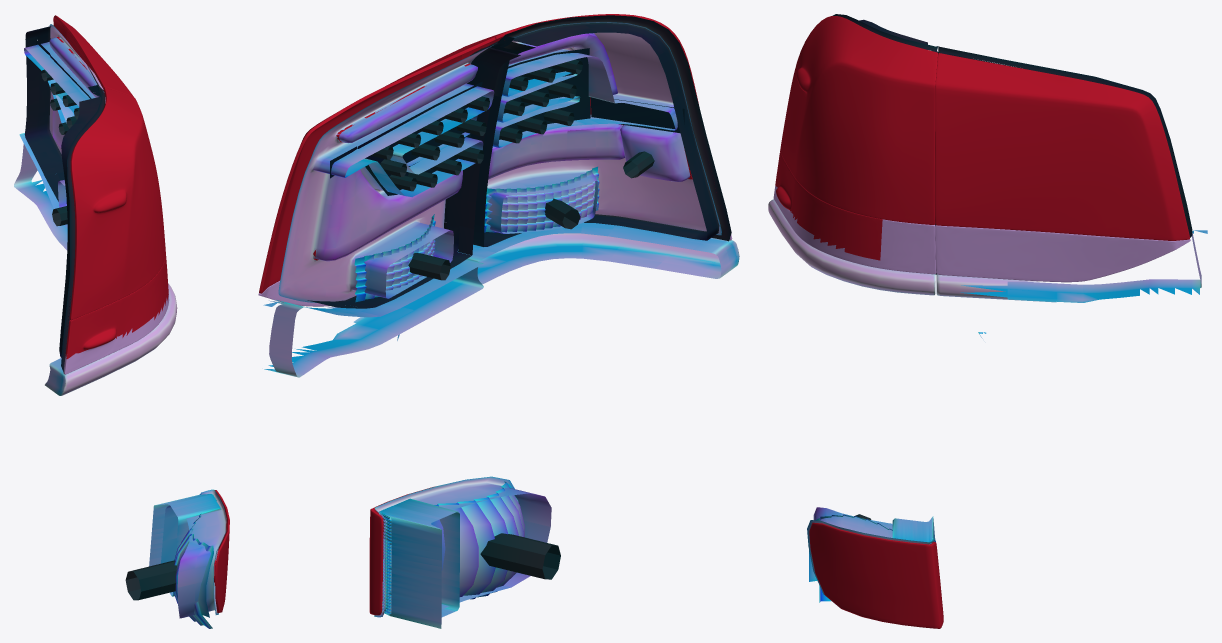
Rendered from lamp_rear_L_finish3.glb.
3 views of the same model, side by side, from view 1: azimuth 30°, elevation 25°; view 2: azimuth 150°, elevation 25°; view 3: azimuth 270°, elevation 25° (orthographic). The views are drawn at different scales.
Parts seen in each view (by area): view 1: redglass_25, chrome_4, black_12, clearglass_27, chrome_2, chrome_1, black_11; view 2: chrome_2, chrome_4, black_12, chrome_1, redglass_25, black_11; view 3: redglass_25, clearglass_27, chrome_4, black_12, chrome_1.
Part boxes in pixels (x1,y1,x2,y2): redglass_25: (53,15,229,612); chrome_4: (14,133,226,628); black_12: (24,26,176,600); clearglass_27: (63,252,168,374); chrome_2: (24,24,105,207); chrome_1: (149,494,221,596); black_11: (41,69,79,134); chrome_2: (278,22,721,302); chrome_4: (263,222,739,617); black_12: (307,15,731,579); chrome_1: (354,166,599,628); redglass_25: (259,14,698,615); black_11: (370,59,582,191); redglass_25: (780,16,1189,628); clearglass_27: (773,153,1190,282); chrome_4: (768,199,1207,607); black_12: (832,14,1192,519); chrome_1: (892,516,935,543).
Size of the model in its own units: 0.3049 by 0.6449 by 0.4851.
